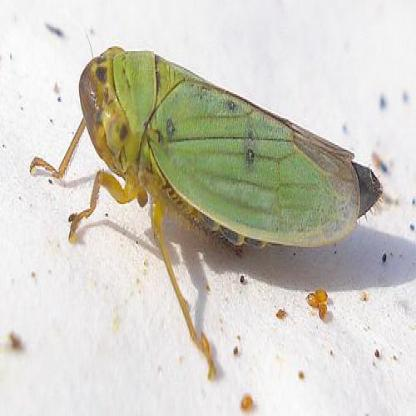Green-Leafhopper: (35, 38, 391, 380)
